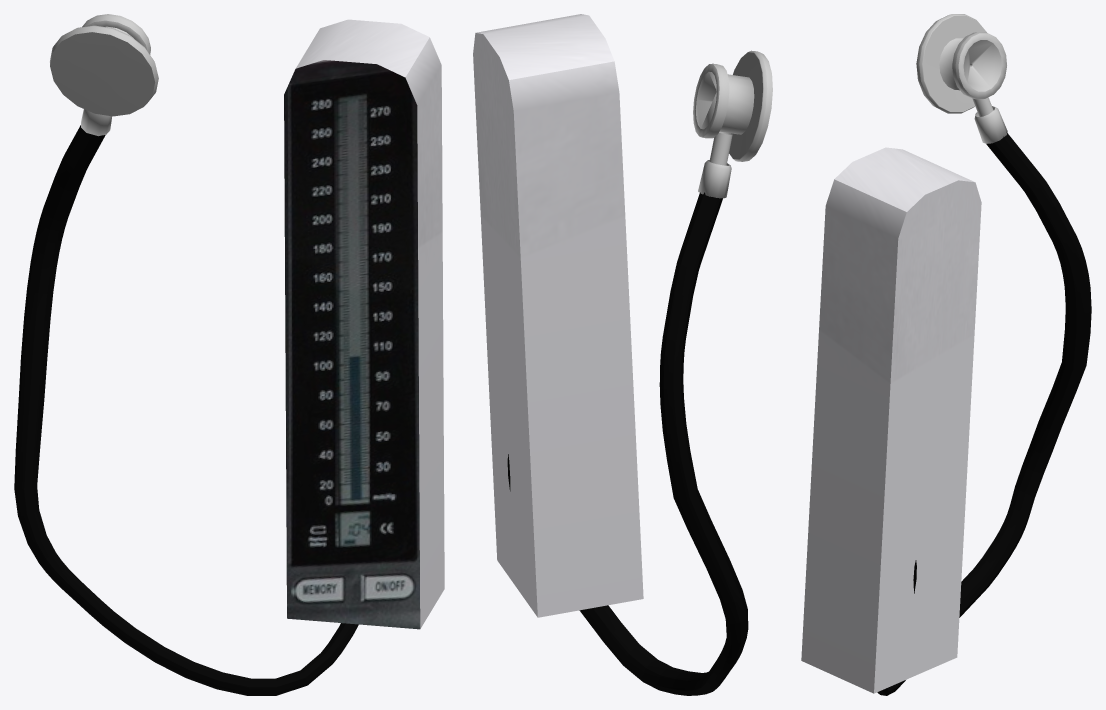
File: bp michen.fbx
3 renders of one model, left to right at view 1: azimuth 30°, elevation 25°; view 2: azimuth 150°, elevation 25°; view 3: azimuth 270°, elevation 25°, orthographic. The views are drawn at different scales.
Visible parts, largest first — view 1: bp_check_michin; view 2: bp_check_michin; view 3: bp_check_michin.
Part boxes in pixels (<box>): bp_check_michin: <box>14,14,444,695</box>; bp_check_michin: <box>473,14,772,695</box>; bp_check_michin: <box>801,14,1091,695</box>.
Size of the model in its own units: 0.8281 by 1.55 by 0.6671.
